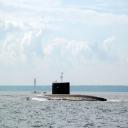submarine: (27, 83, 108, 102)
